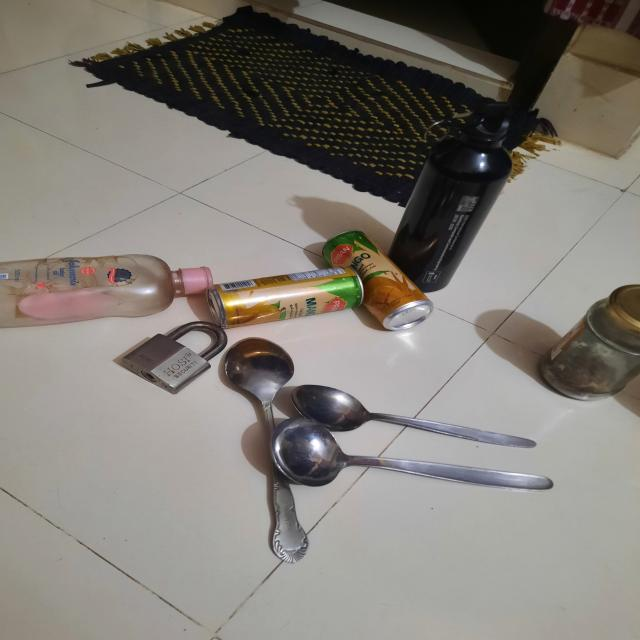Metal: (224, 343, 560, 562), (106, 318, 245, 392)
Plastics: (0, 240, 198, 326)
can: (214, 227, 418, 339), (419, 91, 518, 302)
